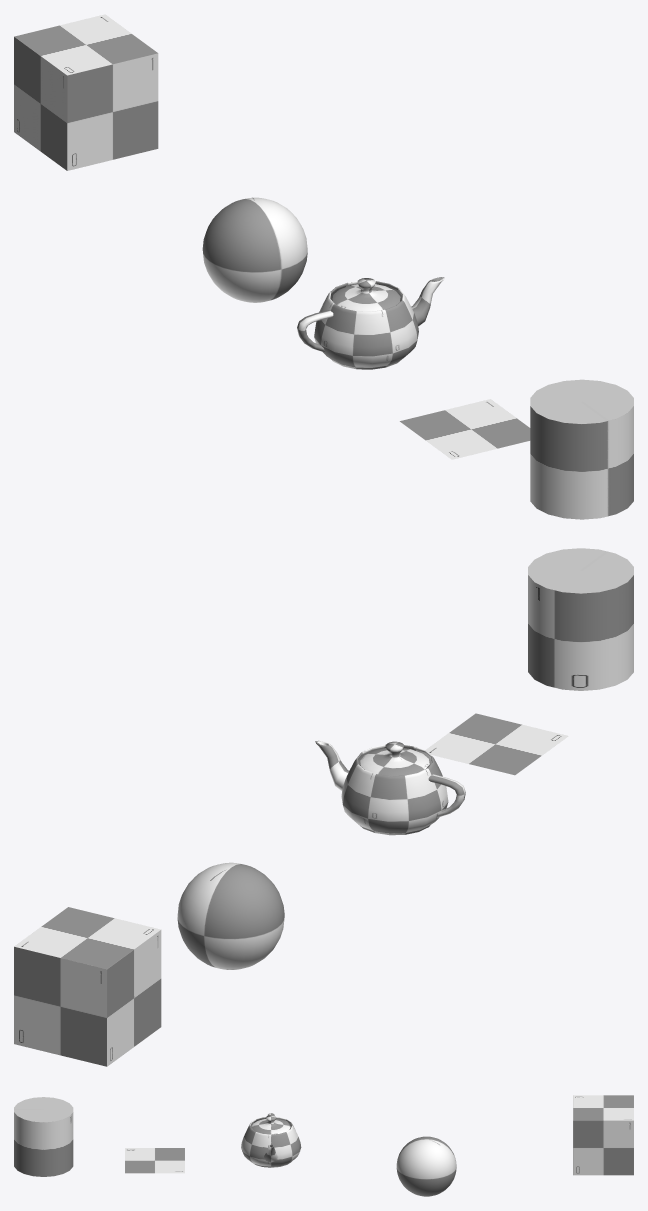
File: primitives.fbx
3 renders of one model, top to bottom at view 1: azimuth 30°, elevation 25°; view 2: azimuth 150°, elevation 25°; view 3: azimuth 270°, elevation 25°, orthographic. The views are drawn at different scales.
Visible parts, largest first — view 1: cube, cylinder, sphere, teapot, plane; view 2: cube, cylinder, sphere, teapot, plane; view 3: cube, cylinder, sphere, teapot, plane.
Boxes of the visible parts, x1,y1,x2,y2 form: cube: [14, 14, 158, 170]; cylinder: [530, 379, 633, 519]; sphere: [202, 197, 307, 302]; teapot: [297, 277, 444, 369]; plane: [399, 399, 530, 459]; cube: [14, 907, 161, 1066]; cylinder: [528, 548, 633, 690]; sphere: [177, 862, 284, 969]; teapot: [315, 740, 465, 835]; plane: [425, 713, 568, 775]; cube: [573, 1095, 633, 1175]; cylinder: [14, 1097, 73, 1176]; sphere: [396, 1136, 456, 1196]; teapot: [241, 1113, 301, 1167]; plane: [125, 1148, 184, 1173].
Size of the model in its own units: 1.61 by 10.29 by 1.5.
